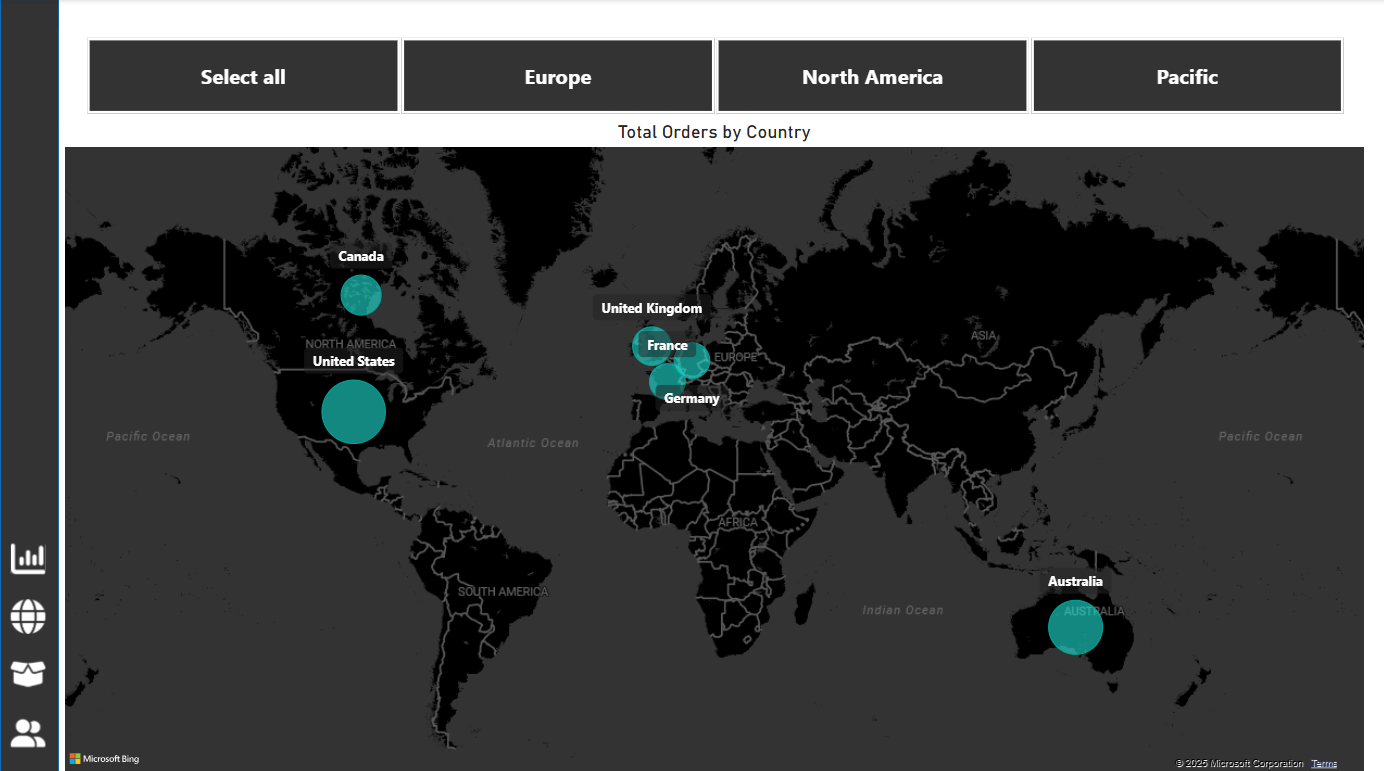

The page's visual inventory and layout, read from the dashboard file:
{"tool":"powerbi","page":{"name":"Map","canvas":[1280,720],"ordinal":1},"visuals":[{"type":"shape","box":[0,0,54.5,719.1],"z":0},{"type":"actionButton","box":[5.4,495.8,99.9,40],"z":0,"group":"g1"},{"type":"map","fields":{"Category":["Territory Lookup.Country"],"Size":["Measurable Table.Total Orders"]},"box":[54.5,112.6,1205.8,606.5],"z":1000},{"type":"actionButton","box":[5.4,549.1,99.9,40],"z":1000,"group":"g1"},{"type":"slicer","fields":{"Values":["Territory Lookup.Continent"]},"box":[54.5,29.1,1205.8,83.5],"z":2000},{"type":"actionButton","box":[5.4,602.3,99.9,40],"z":2000,"group":"g1"},{"type":"group","id":"g1","title":"Navigation button","box":[5.4,495.8,99.9,199.8],"z":3000},{"type":"actionButton","box":[5.4,655.6,99.9,40],"z":3000,"group":"g1"}]}

Visuals, with their boxes on the page's 1280x720 design canvas (x1, y1, x2, y2). These are canvas units, not pixel positions in the 1384x771 screenshot, which may show the page scaled, cropped or inside an application window:
shape: region(0, 0, 54, 719)
actionButton: region(5, 496, 105, 536)
map - Territory Lookup.Country x Measurable Table.Total Orders: region(54, 113, 1260, 719)
actionButton: region(5, 549, 105, 589)
slicer - Territory Lookup.Continent: region(54, 29, 1260, 113)
actionButton: region(5, 602, 105, 642)
"Navigation button" group: region(5, 496, 105, 696)
actionButton: region(5, 656, 105, 696)
